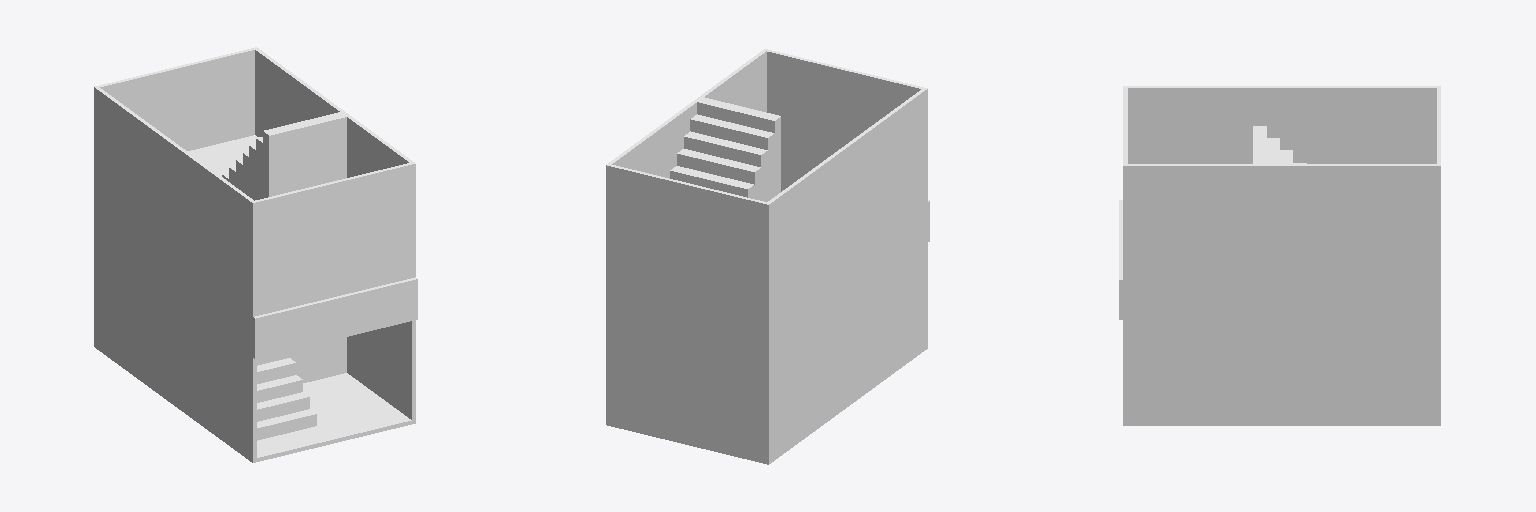
The model's file is store_1_t.obj.
The picture shows the model from 3 angles: view 1: azimuth 30°, elevation 25°; view 2: azimuth 150°, elevation 25°; view 3: azimuth 270°, elevation 25°; orthographic projection.
Parts seen in each view (by area): view 1: store_1_t; view 2: store_1_t; view 3: store_1_t.
Boxes of the visible parts, <box> form: store_1_t: <box>94,47,417,462</box>; store_1_t: <box>606,49,929,464</box>; store_1_t: <box>1119,86,1440,425</box>.
Bounding box in the file's own units: 42 × 64 × 72.